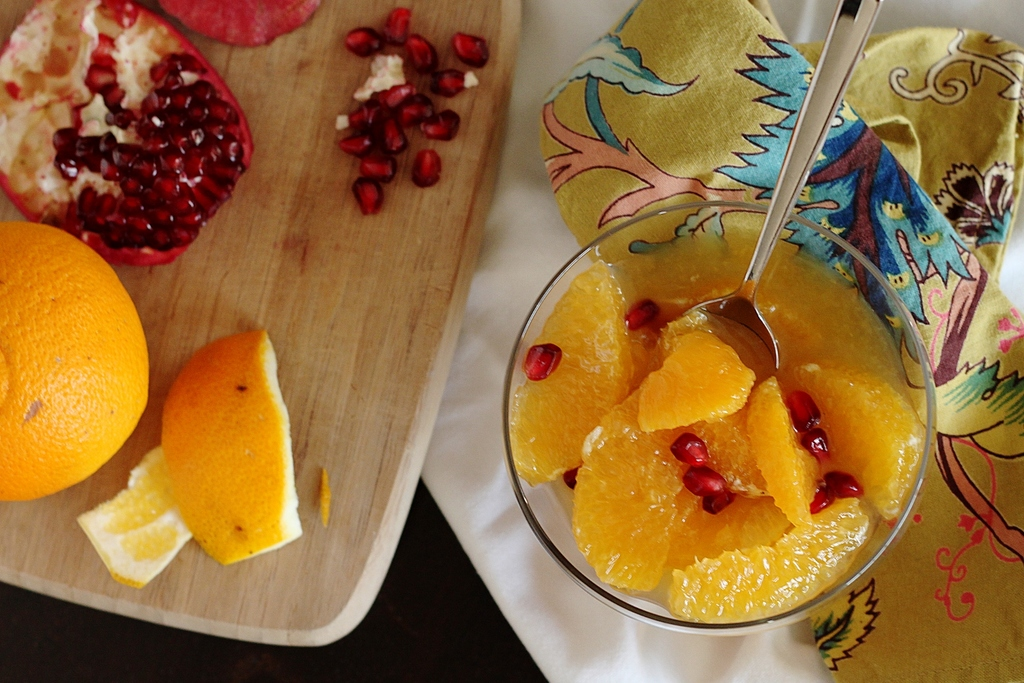Ripe: (7, 242, 145, 479)
